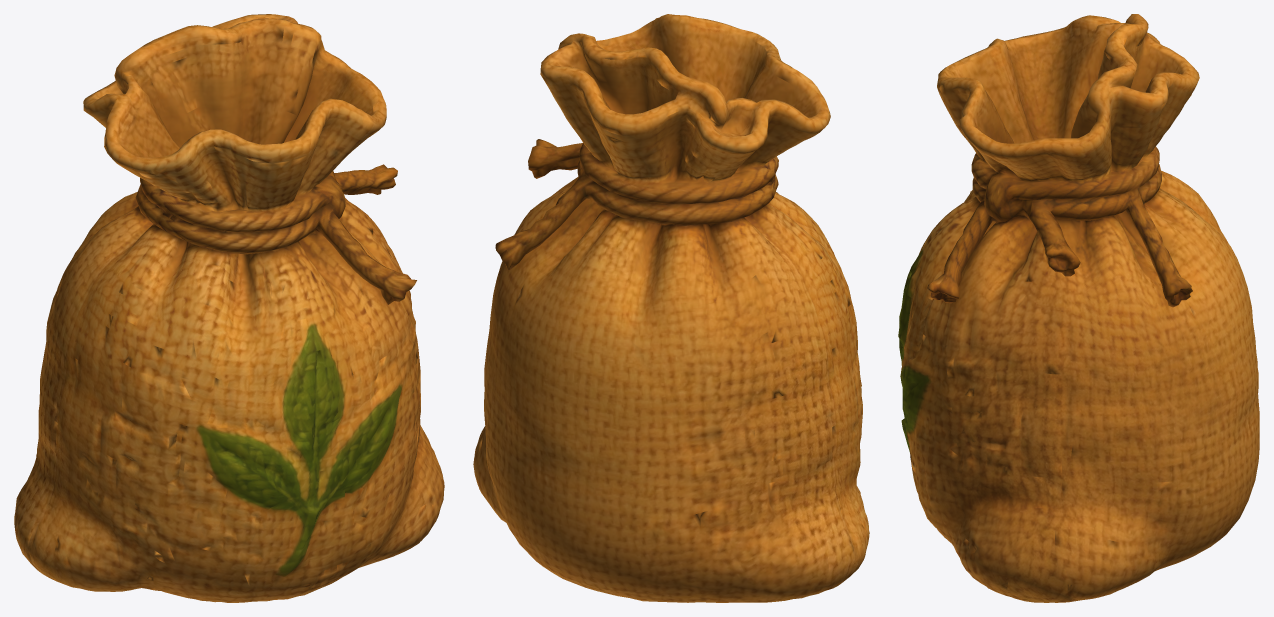
Rendered from seed_sack.glb.
3 renders of one model, left to right at view 1: azimuth 30°, elevation 25°; view 2: azimuth 150°, elevation 25°; view 3: azimuth 270°, elevation 25°, orthographic. The views are drawn at different scales.
Visible parts, largest first — view 1: tripo_node_4460537a-d56c-47a0-8f04-74c28a069c56; view 2: tripo_node_4460537a-d56c-47a0-8f04-74c28a069c56; view 3: tripo_node_4460537a-d56c-47a0-8f04-74c28a069c56.
Boxes of the visible parts, x1,y1,x2,y2 form: tripo_node_4460537a-d56c-47a0-8f04-74c28a069c56: (14, 14, 444, 602); tripo_node_4460537a-d56c-47a0-8f04-74c28a069c56: (473, 14, 869, 602); tripo_node_4460537a-d56c-47a0-8f04-74c28a069c56: (898, 14, 1259, 602).
Size of the model in its own units: 0.7489 by 0.9787 by 0.6224.
1 material, 1 textured.
